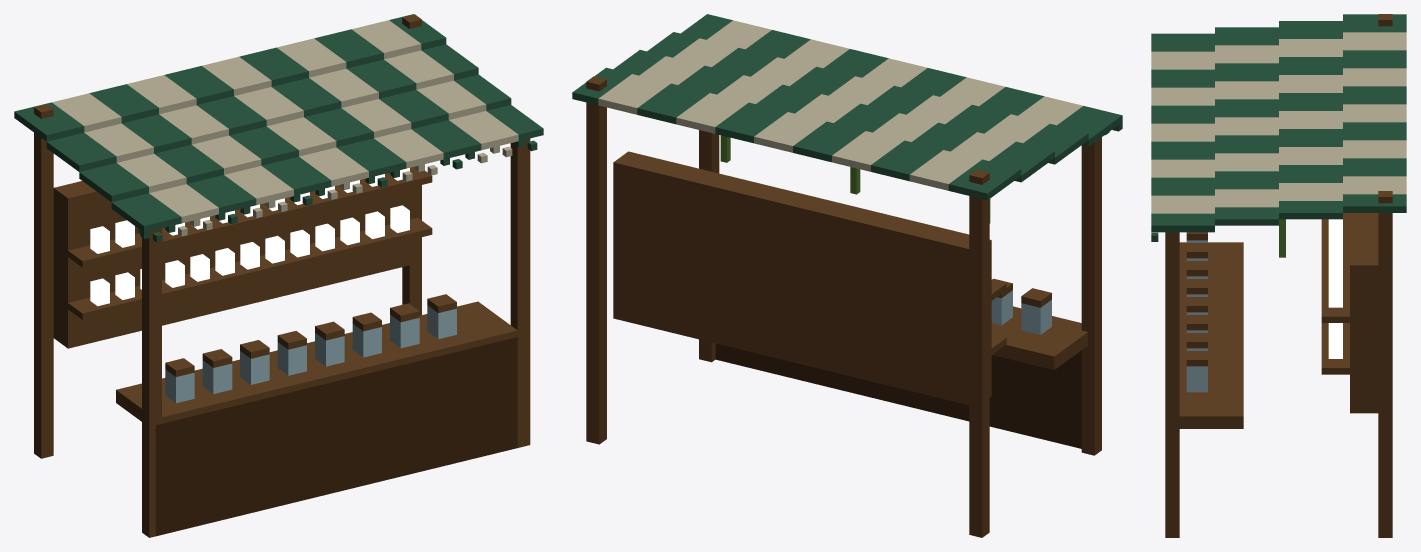
The model's file is stall_apothecary.glb.
3 views of the same model, side by side, from view 1: azimuth 30°, elevation 25°; view 2: azimuth 150°, elevation 25°; view 3: azimuth 270°, elevation 25° (orthographic). The views are drawn at different scales.
Parts seen in each view (by area): view 1: stall_apothecary; view 2: stall_apothecary; view 3: stall_apothecary.
Part boxes in pixels (x1,y1,x2,y2): stall_apothecary: (14, 14, 543, 537); stall_apothecary: (572, 14, 1122, 537); stall_apothecary: (1151, 14, 1406, 537).
Bounding box in the file's own units: 3.2 × 2.65 × 1.8.
